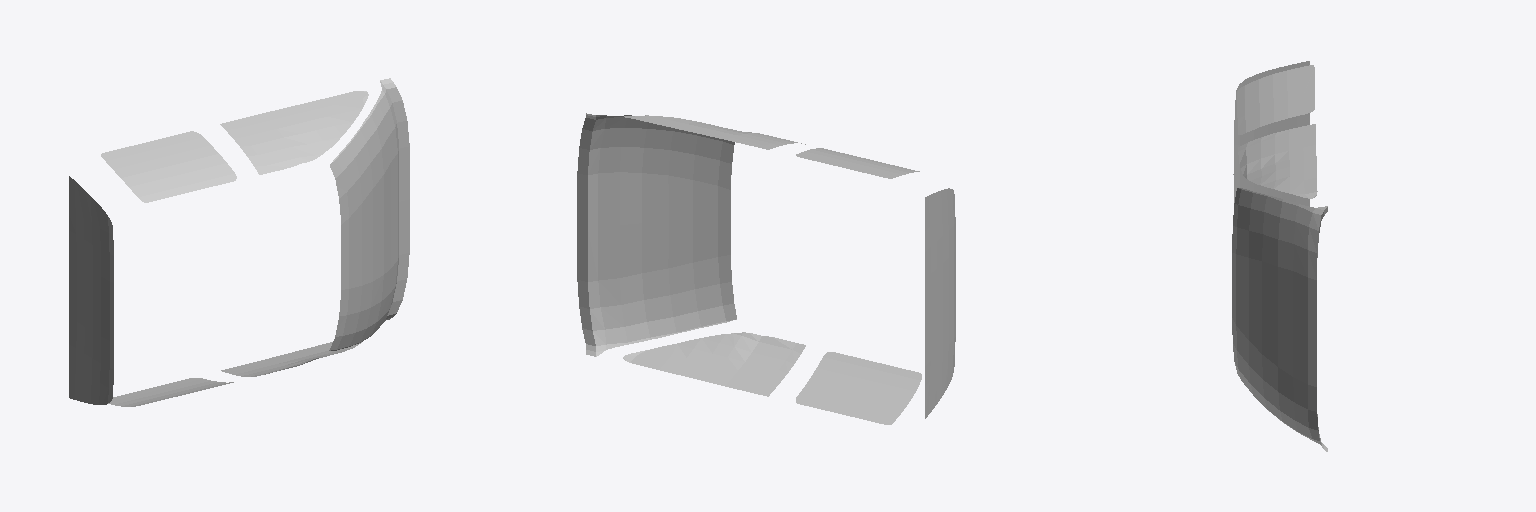
Rendered from windows.obj.
3 renders of one model, left to right at view 1: azimuth 30°, elevation 25°; view 2: azimuth 150°, elevation 25°; view 3: azimuth 270°, elevation 25°, orthographic.
Parts seen in each view (by area): view 1: default; view 2: default; view 3: default.
Boxes of the visible parts, x1=… form: default: x1=69, y1=78, x2=409, y2=406; default: x1=577, y1=113, x2=955, y2=424; default: x1=1232, y1=61, x2=1327, y2=451.
Bounding box in the file's own units: 2.57 × 1.76 × 0.6184.